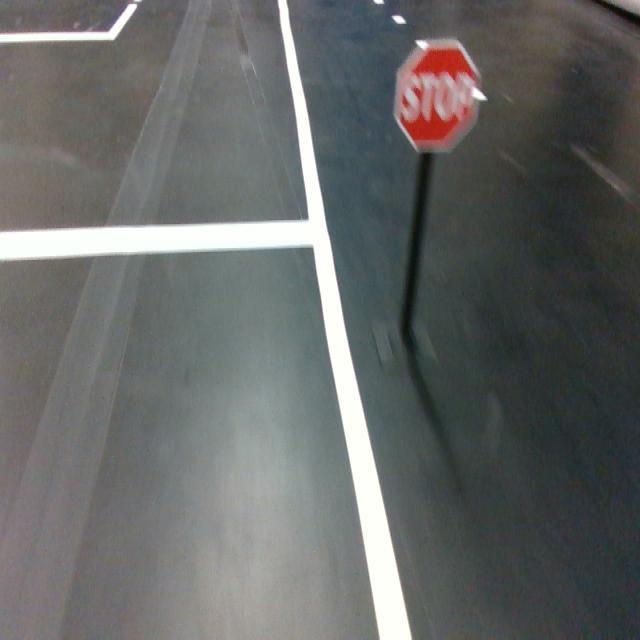stop-sign: (393, 38, 480, 155)
